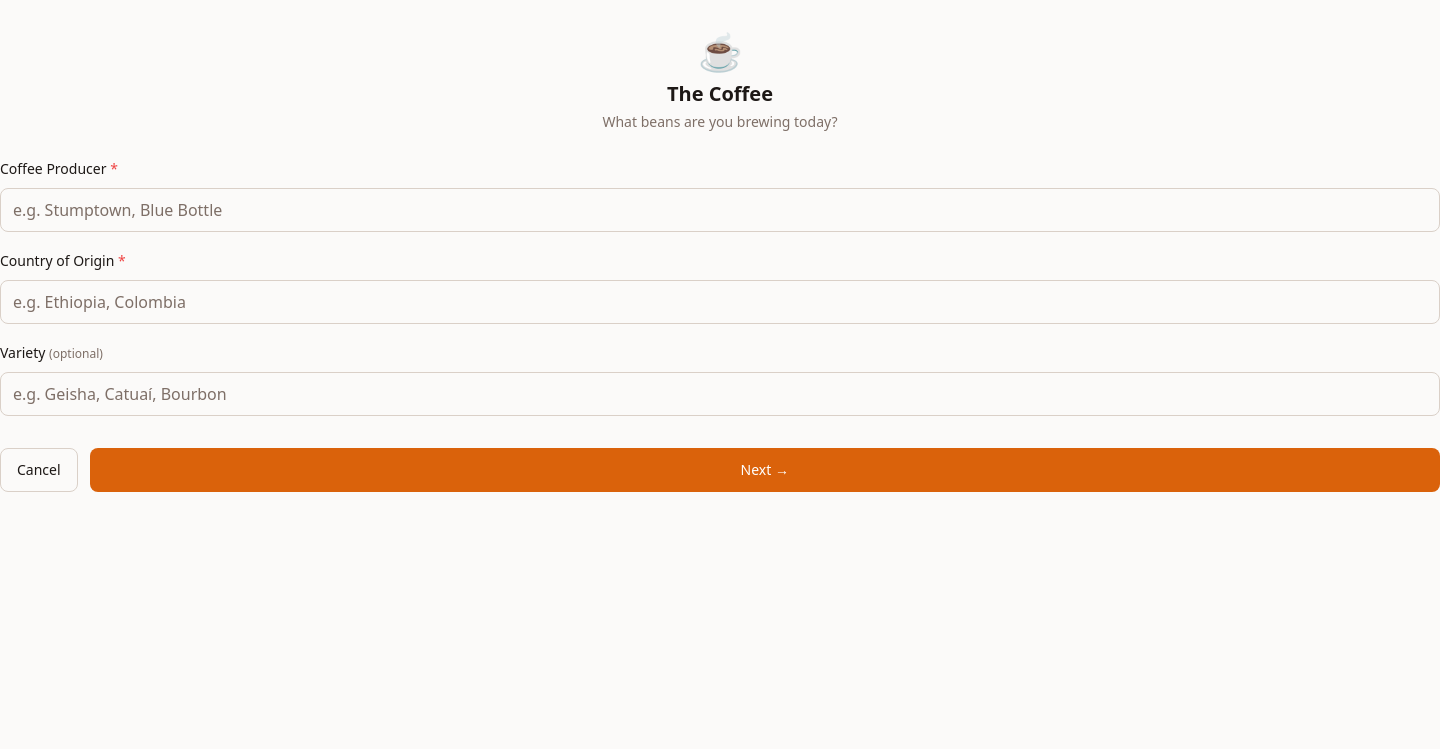
Test: BrewingForm wizard › returns to step 1 when Back is clicked on step 2
In the field labelled "Coffee Producer *": (720,210) [0,188,1439,232], type "Blue Bottle"
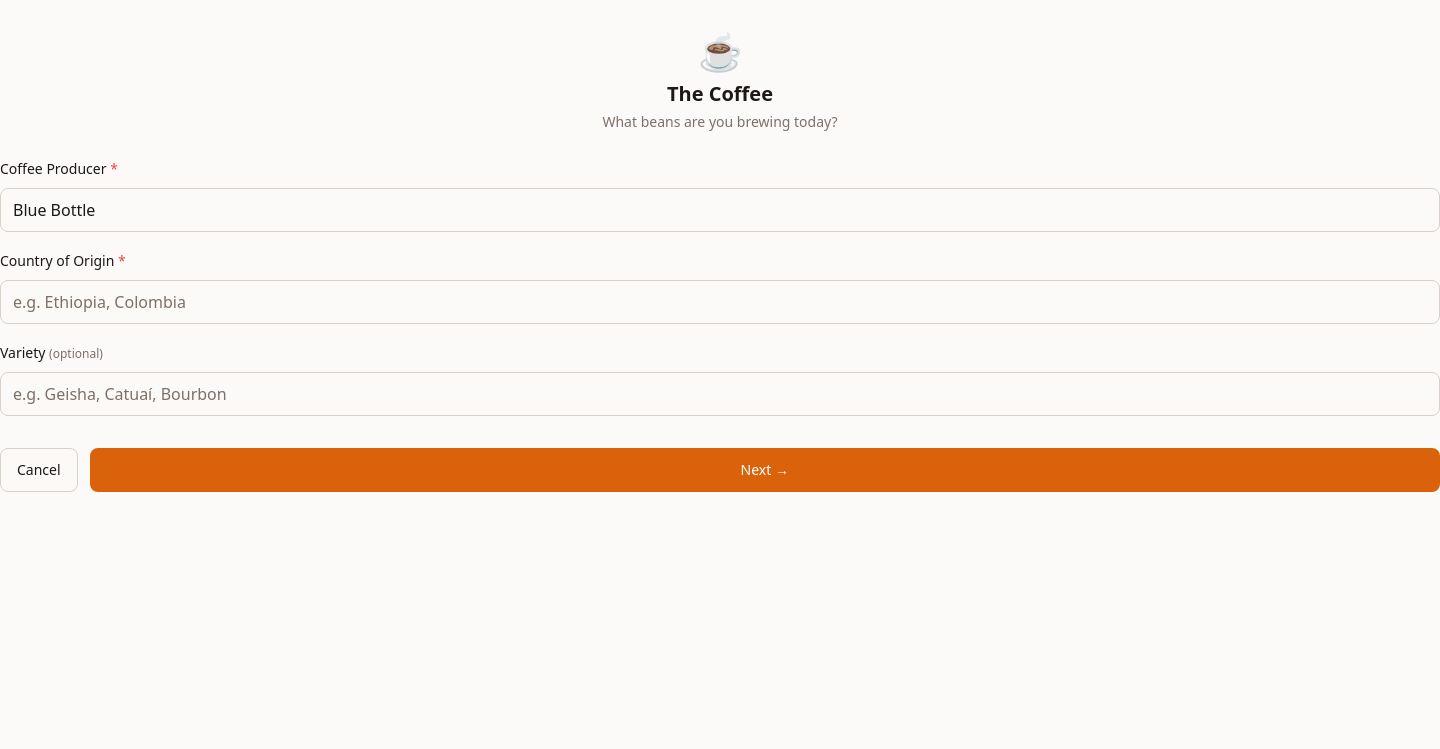
In the field labelled "Country of Origin *": (720,302) [0,280,1439,324], type "Ethiopia"
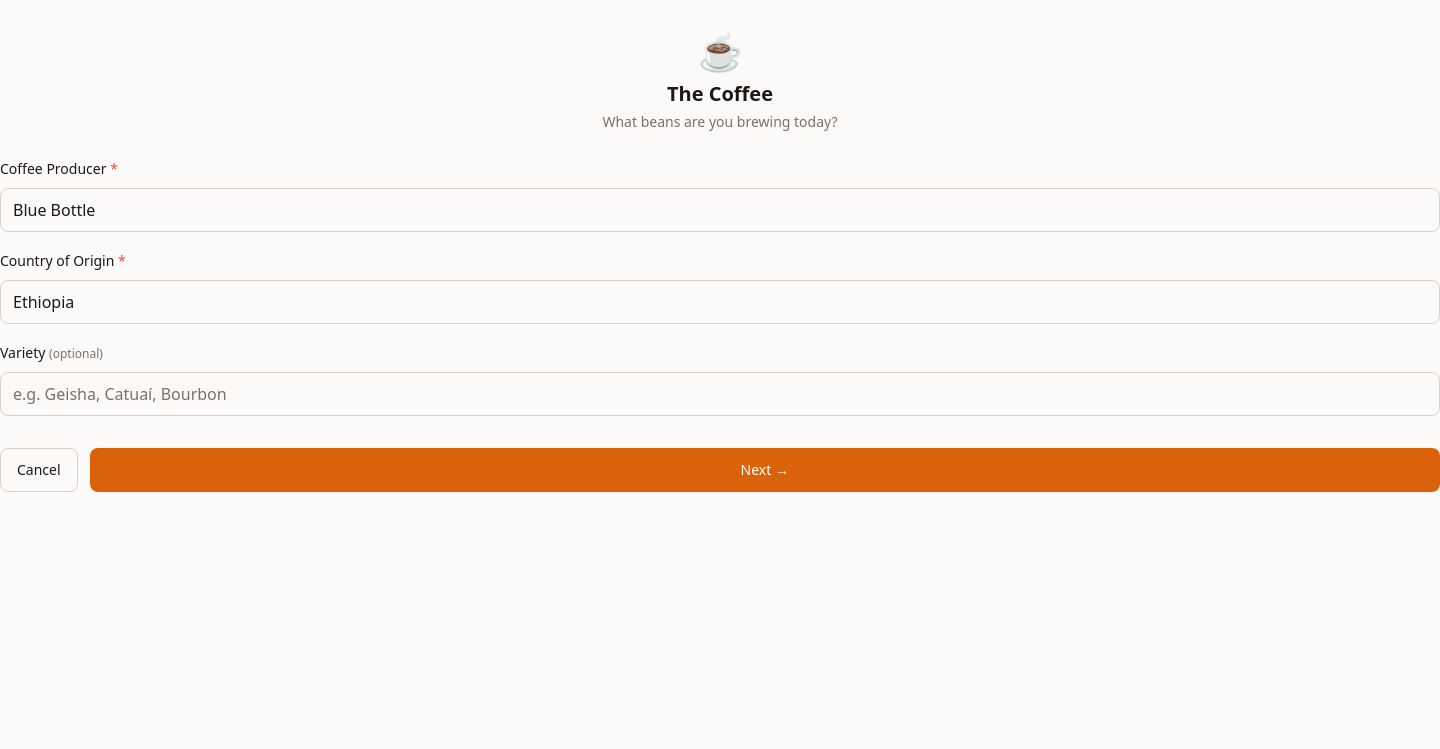
Click the button "Next →": (765,470) [90,448,1439,492]
(page scrolled)
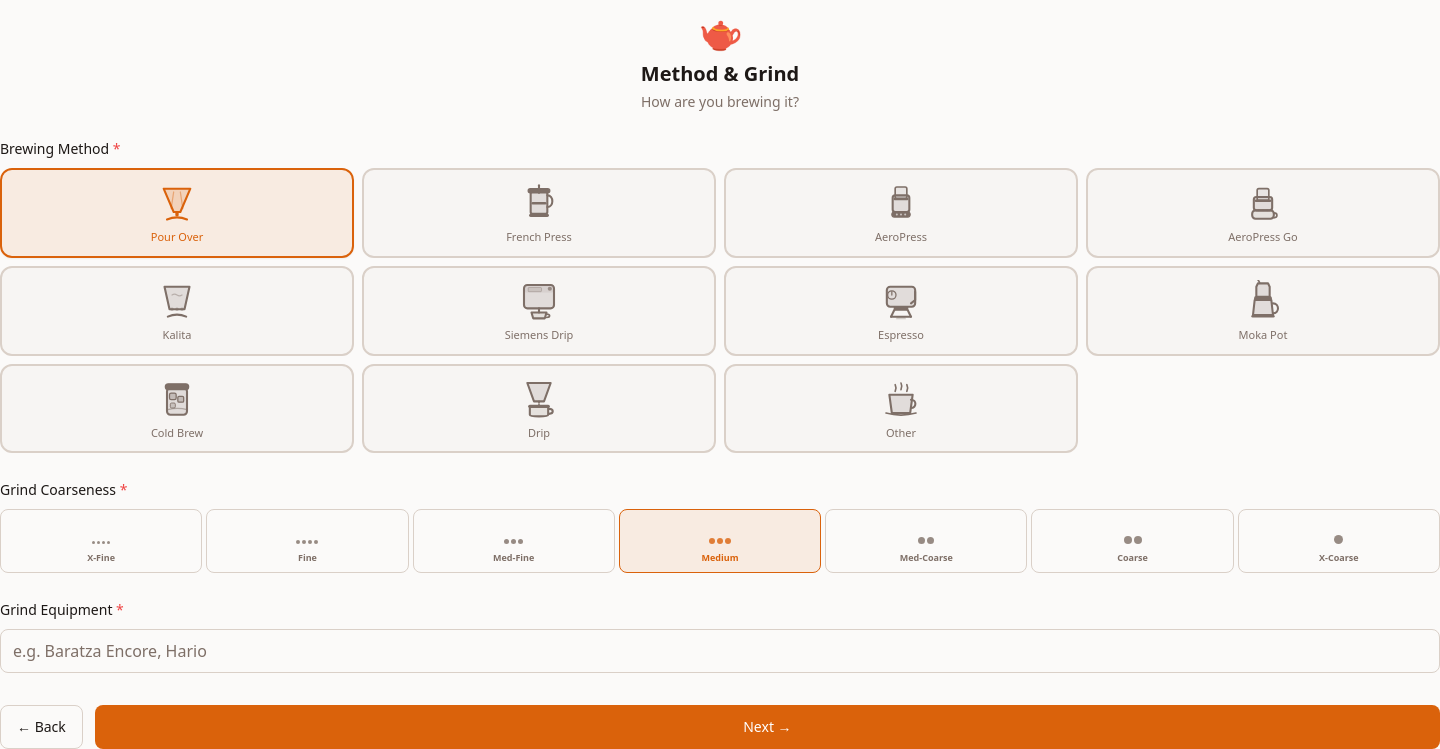
Expected: the heading "Method & Grind" is shown, [641,60,799,87]
Click the button "← Back": (41,726) [0,704,83,748]
(page scrolled)
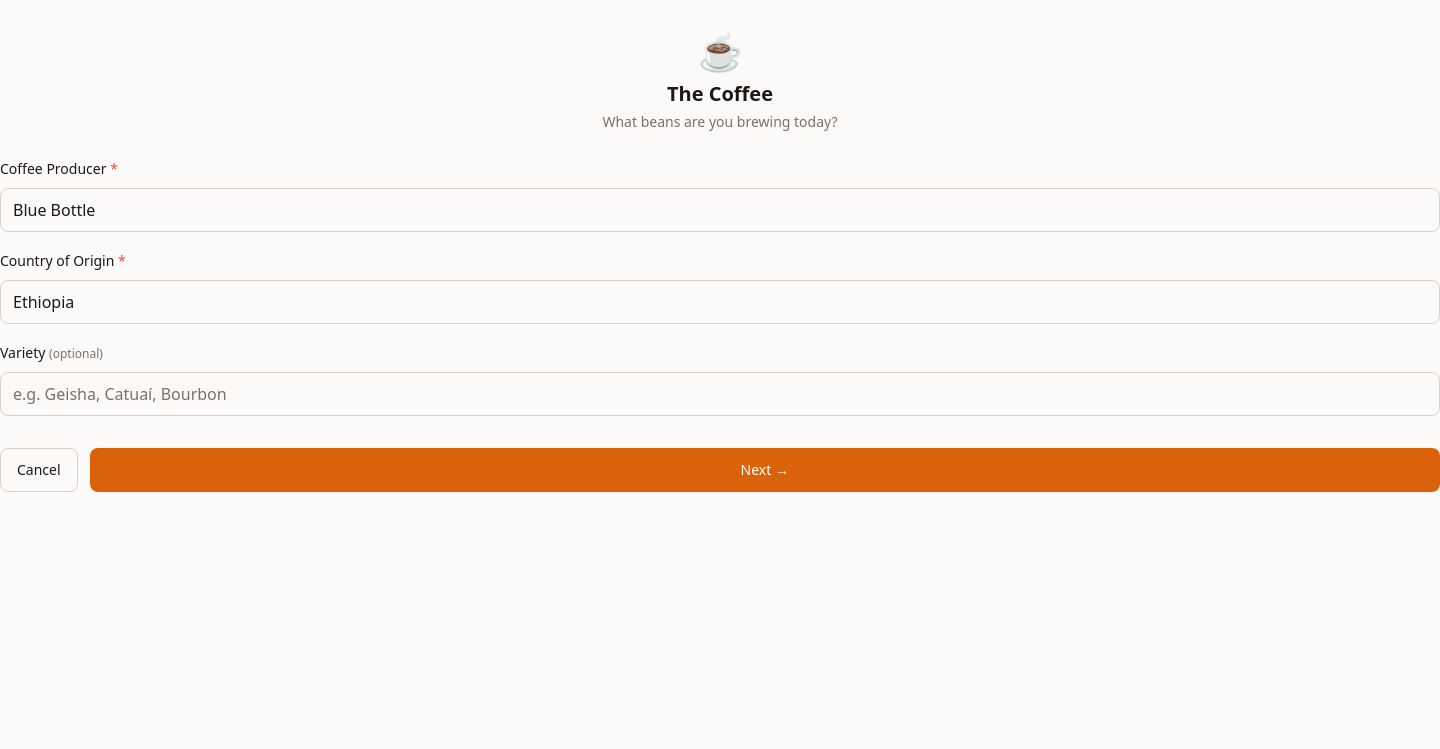
Expected: the heading "The Coffee" is shown, [667,80,773,107]
